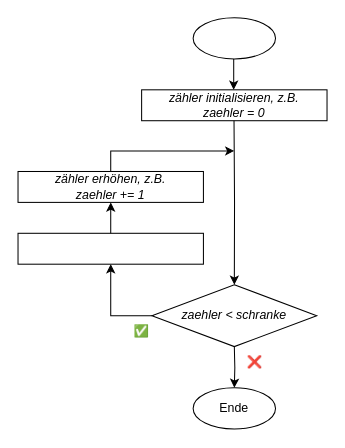
Some shapes in this 345 by 448 pixel diagram are drawn without their labels. Each missing label, with the box of its shape:
Schleifenkörper: (17, 232, 203, 264)
Start: (192, 17, 276, 59)
